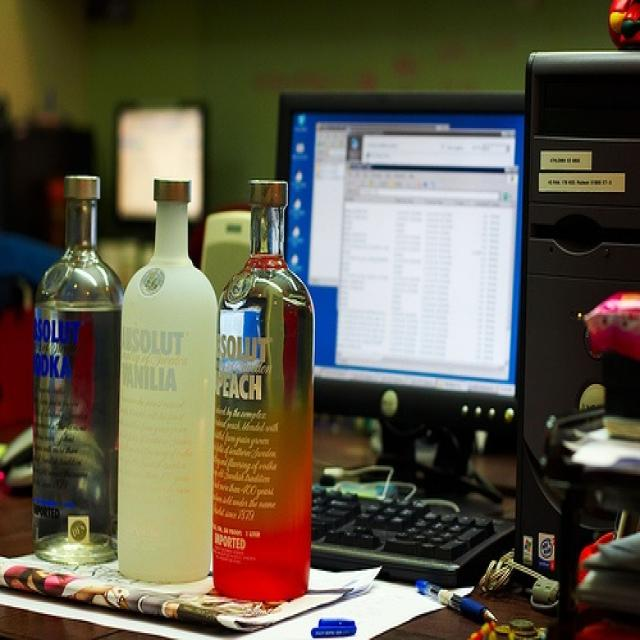bottle: (211, 178, 316, 600), (120, 179, 212, 582), (32, 176, 119, 561)
tvmonitor: (276, 89, 532, 525), (114, 105, 207, 243)
